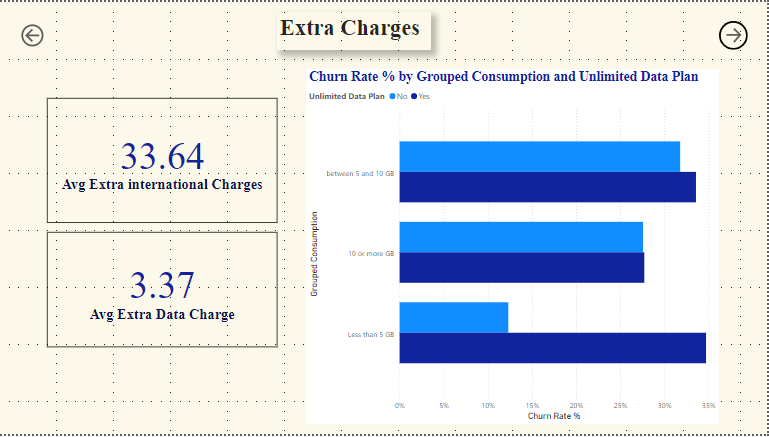

What the dashboard file says about the page in this screenshot:
{"tool":"powerbi","page":{"name":"Extra Charges","canvas":[1280,720],"ordinal":8},"visuals":[{"type":"clusteredBarChart","fields":{"Category":["Databel - Data.Grouped Consumption"],"Y":["__Measures.Churn Rate %"],"Series":["Databel - Data.Unlimited Data Plan"]},"box":[512,112,688,592],"z":0},{"type":"card","fields":{"Values":["__Measures.Avg Extra Data Charge"]},"box":[80,384,384,192],"z":1000},{"type":"card","fields":{"Values":["__Measures.Avg Extra international Charges"]},"box":[80,160,384,208],"z":2000},{"type":"actionButton","box":[32,32,48,48],"z":3000},{"type":"actionButton","box":[1200,32,48,48],"z":4000},{"type":"textbox","box":[464,16,256,64],"z":4001}]}

Visuals, with their boxes in screenshot pixels (x1, y1, x2, y2), scaled from the page's 1280x720 canvas onto the 769x437 screenshot:
clusteredBarChart - Databel - Data.Grouped Consumption x __Measures.Churn Rate %: (308, 68, 721, 427)
card - __Measures.Avg Extra Data Charge: (48, 233, 279, 350)
card - __Measures.Avg Extra international Charges: (48, 97, 279, 223)
actionButton: (19, 19, 48, 49)
actionButton: (721, 19, 750, 49)
textbox: (279, 10, 433, 49)
